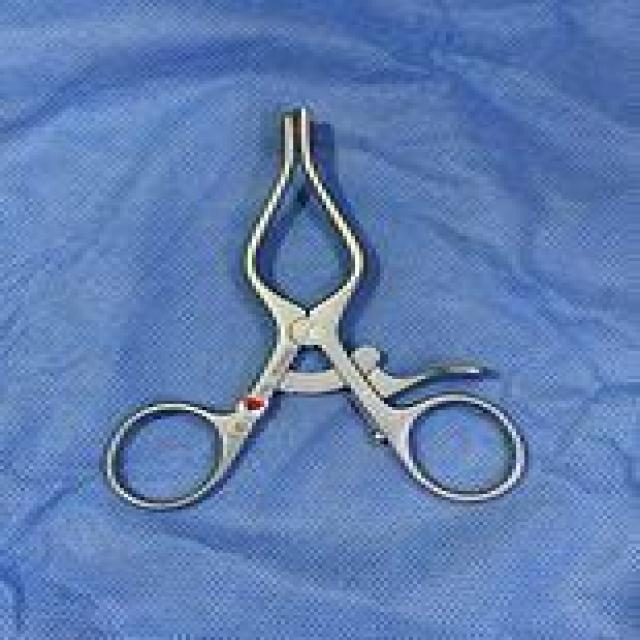Weitlaner: (95, 96, 541, 522)
